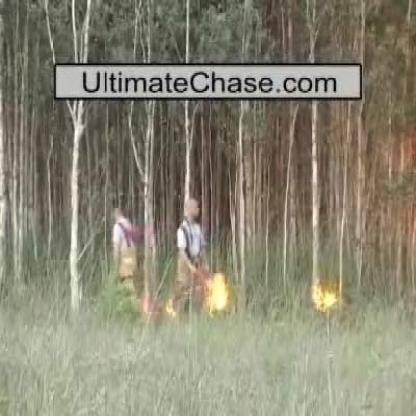foggia-v2-map80-epoch100 - v1 4323: (312, 280, 336, 312), (210, 274, 228, 308)
